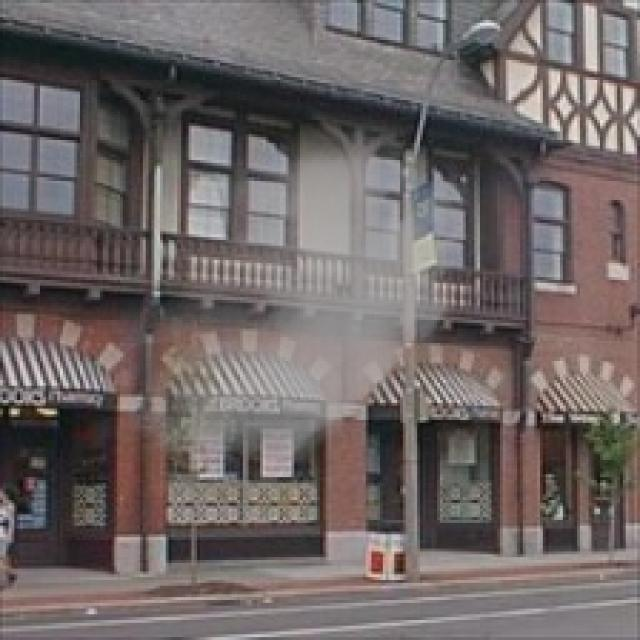smoke: (71, 106, 483, 514)
